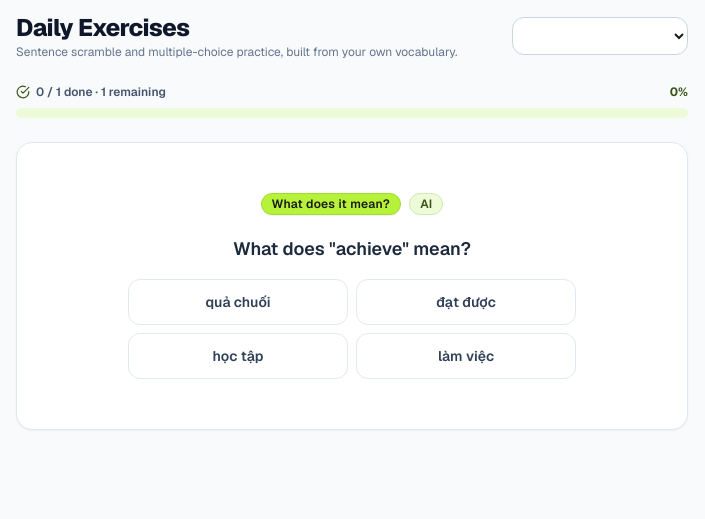
Scenario: ExercisesPage › lets the learner pick a multiple-choice option and shows feedback
Check: the text "What does \"achieve\" mean?" is shown, box [233,235,471,263]
Click the button "quả chuối".
click(238, 302)  # box [128,279,348,325]
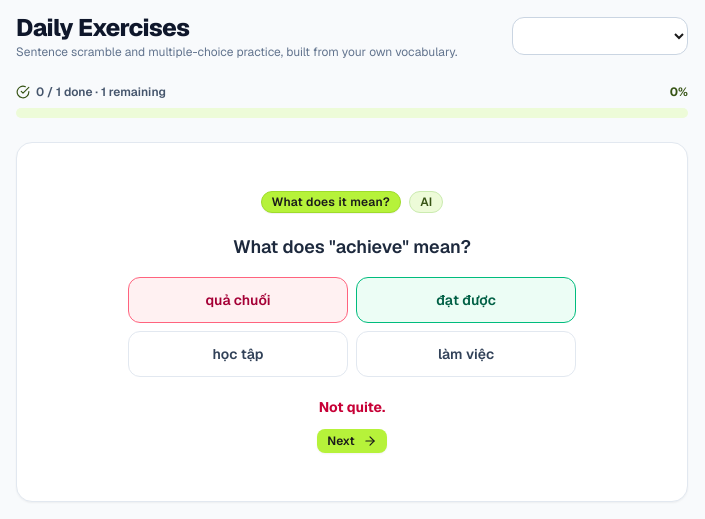
Check: the text "Not quite." is shown, box [319,397,385,417]
